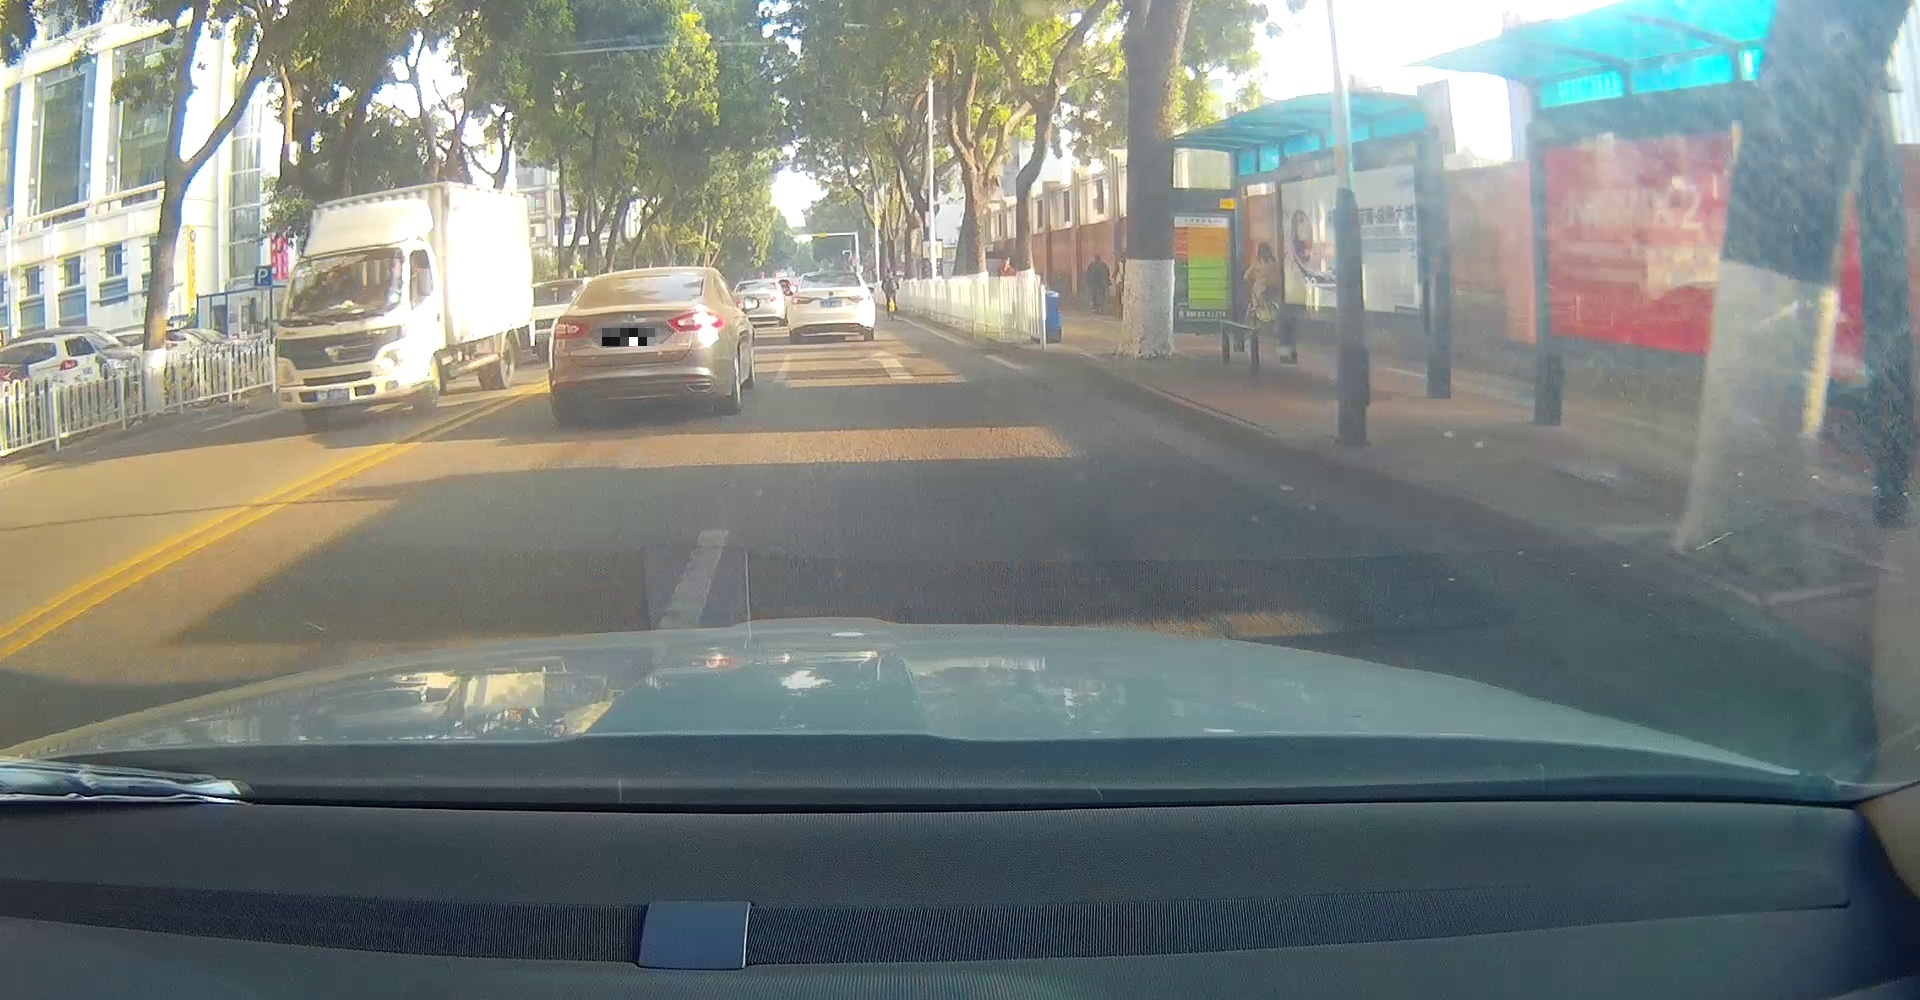L_light: (550, 319, 590, 338), (790, 297, 811, 305)
R_light: (668, 311, 723, 332), (850, 294, 869, 302)
T_light: (630, 278, 657, 283), (825, 275, 839, 278)
day-no: (546, 265, 729, 418), (786, 270, 876, 341)
plate_1: (602, 327, 655, 346)
